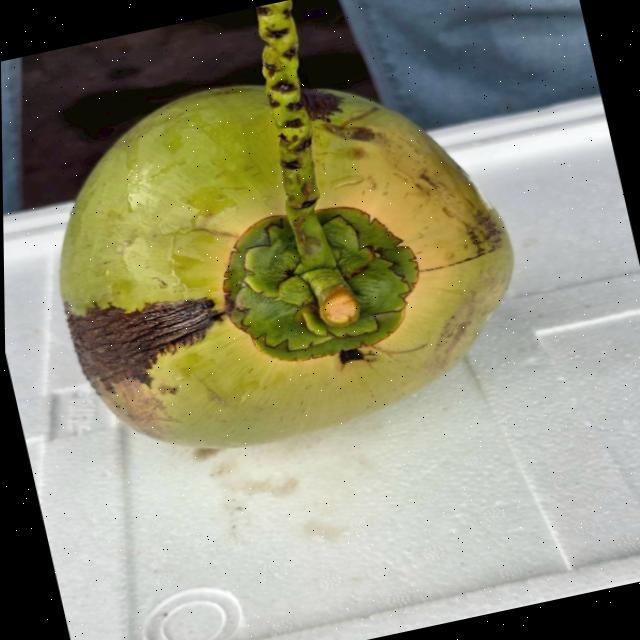coco_1.5: (158, 150, 468, 410)
